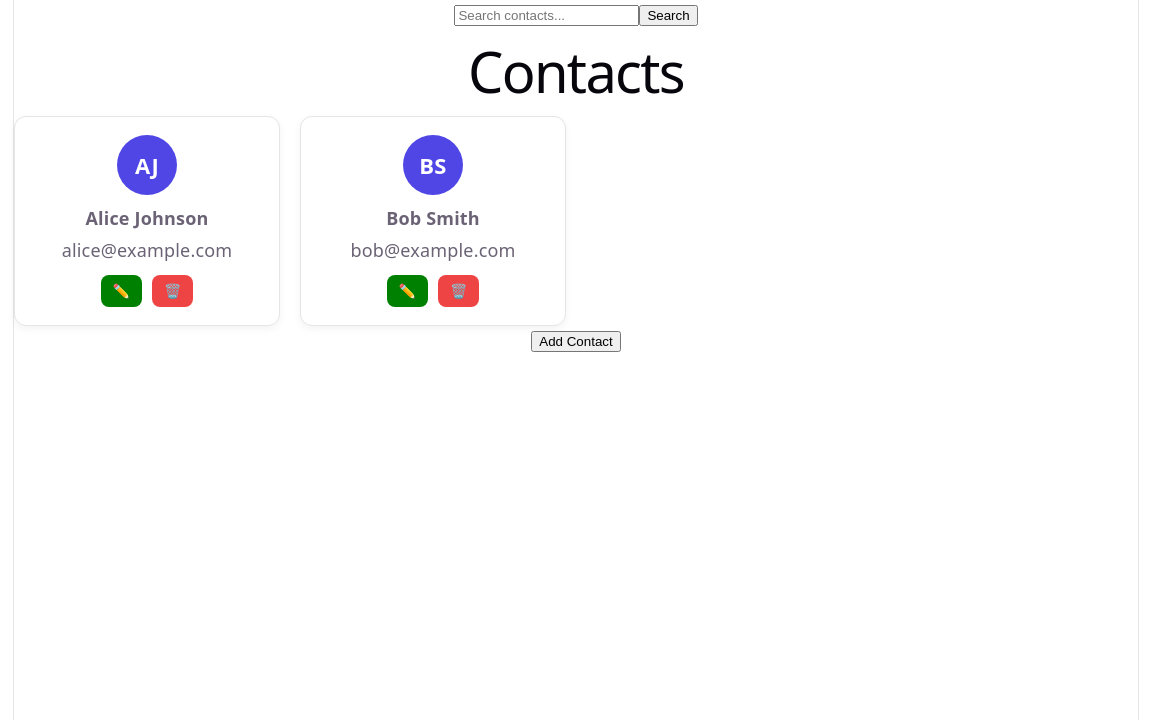
Test: Contacts Page Integration Test › adds a new contact through the modal form
Check: the heading "Alice Johnson" is shown, box [86,205,208,231]
Click the button "Add Contact" at {"x": 576, "y": 342}, box [531,331,621,352]
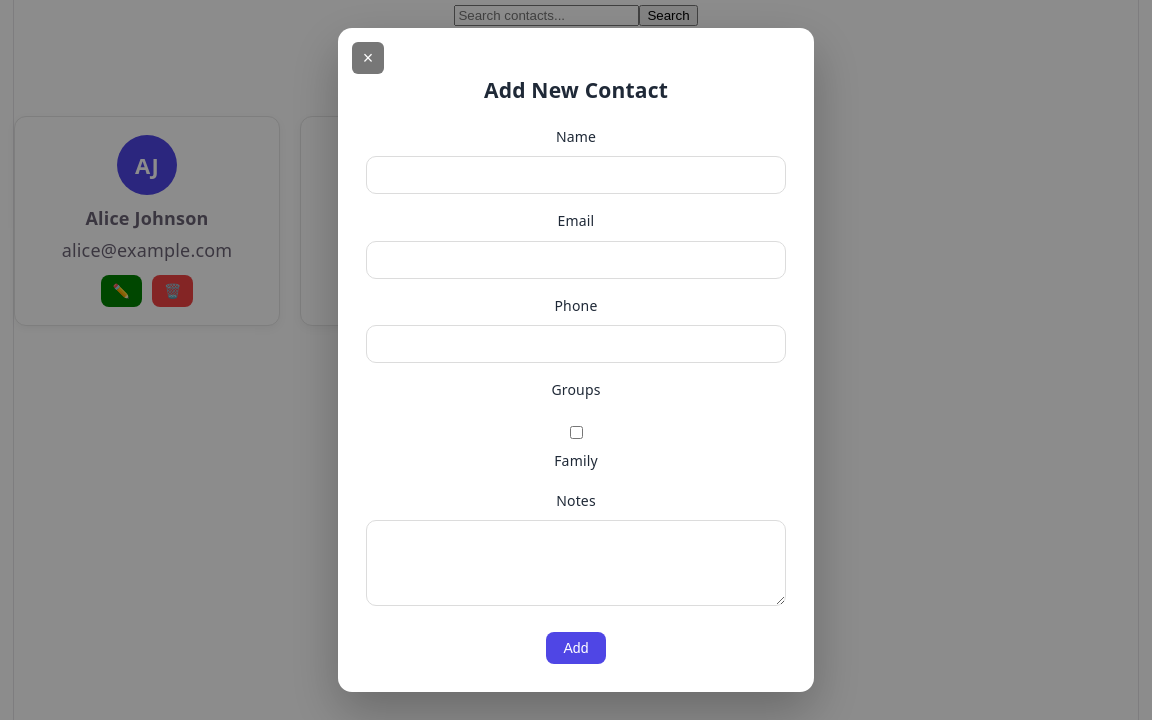
Check: the heading "Add New Contact" is shown, box [484,75,668,104]
Type "Carol Lee" into the field labelled "Name" at {"x": 576, "y": 175}, box [366,156,786,194]
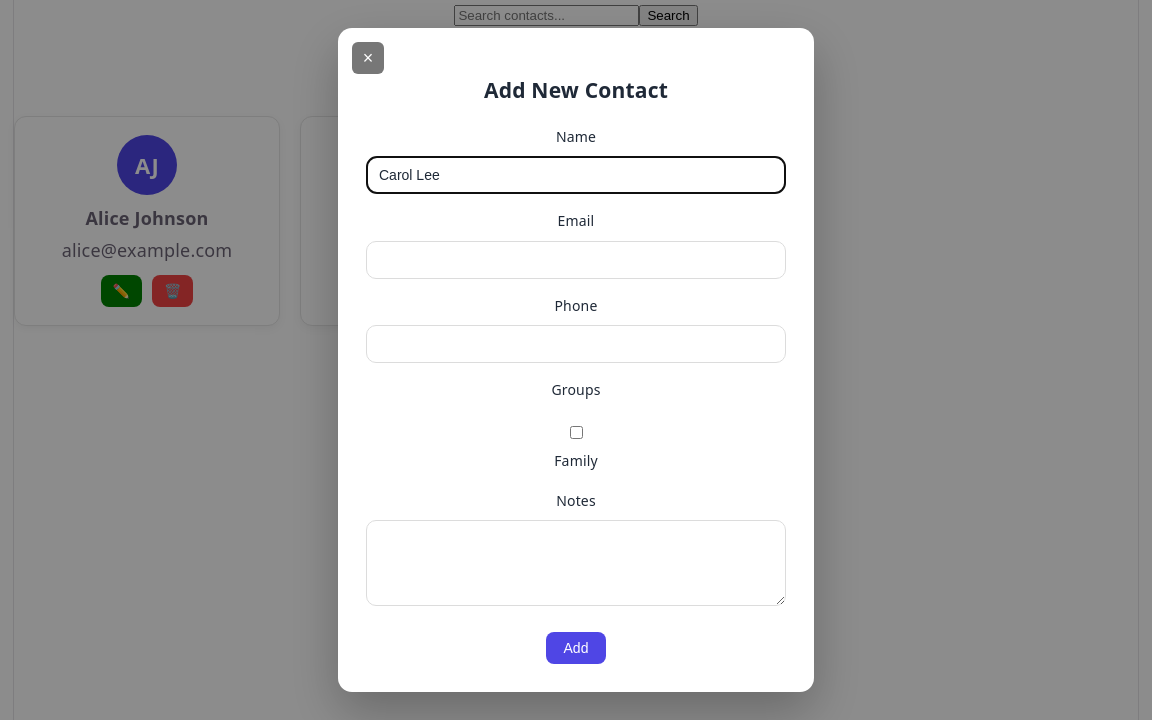
Type "carol@example.com" into the field labelled "Email" at {"x": 576, "y": 260}, box [366,240,786,278]
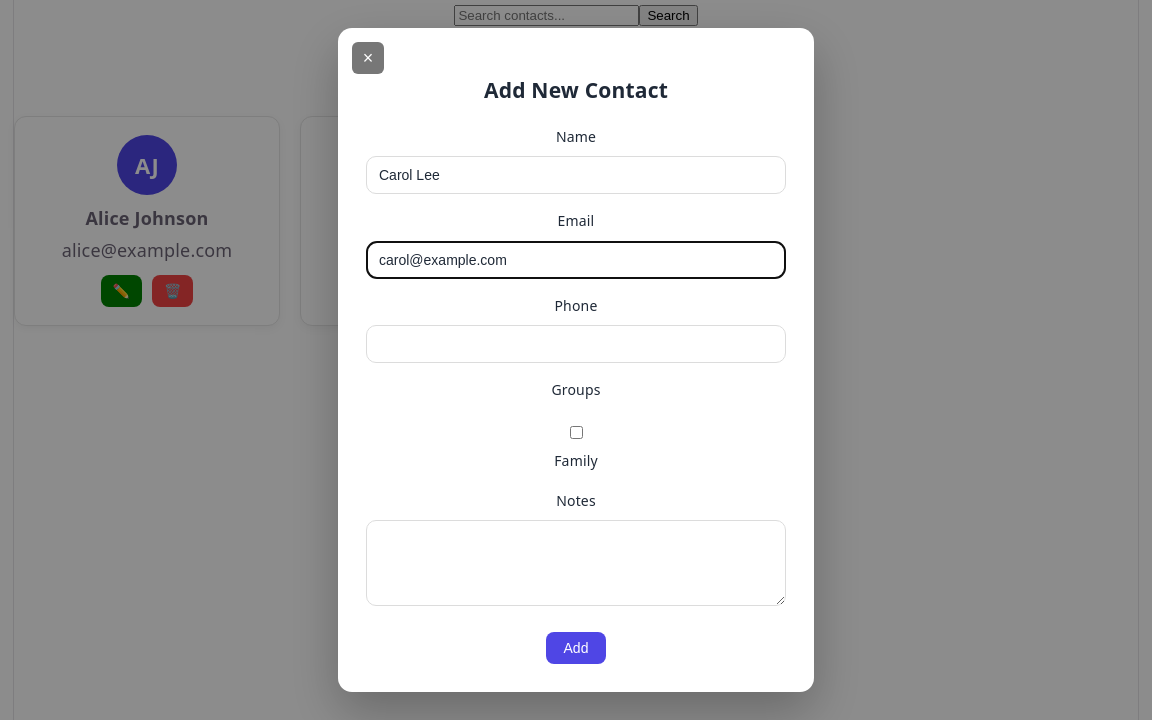
Click the button "Add" at {"x": 576, "y": 648}, box [546,632,606,664]
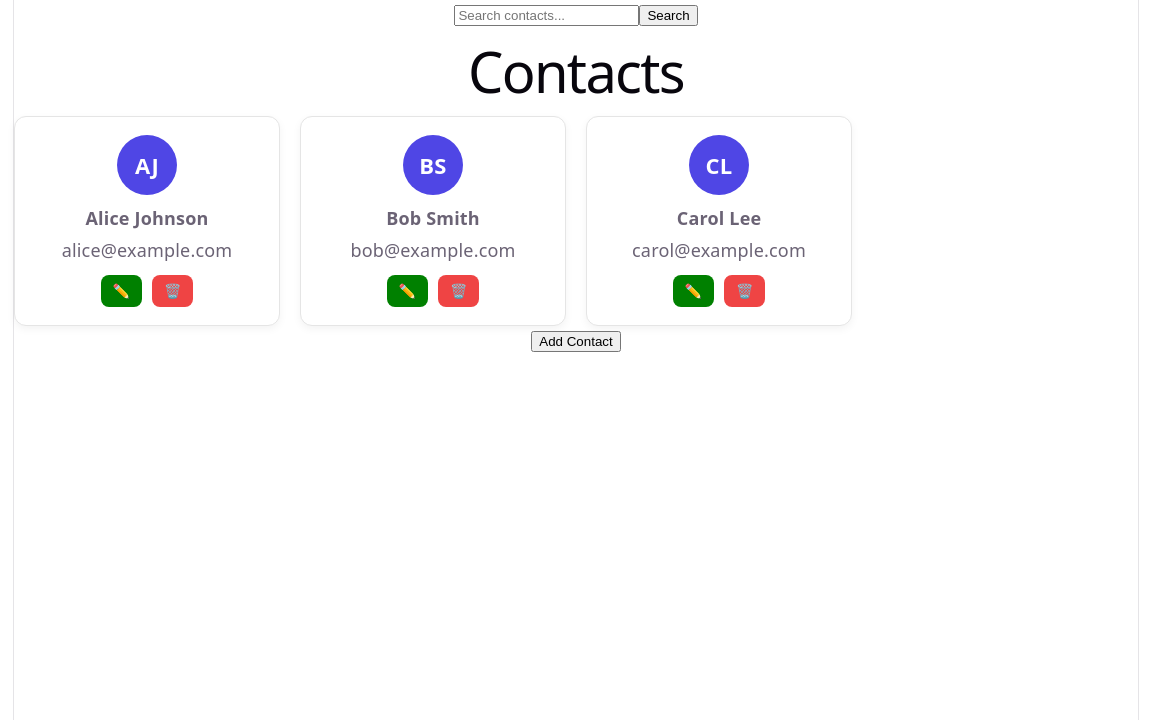
Check: the heading "Carol Lee" is shown, box [677,205,761,231]
